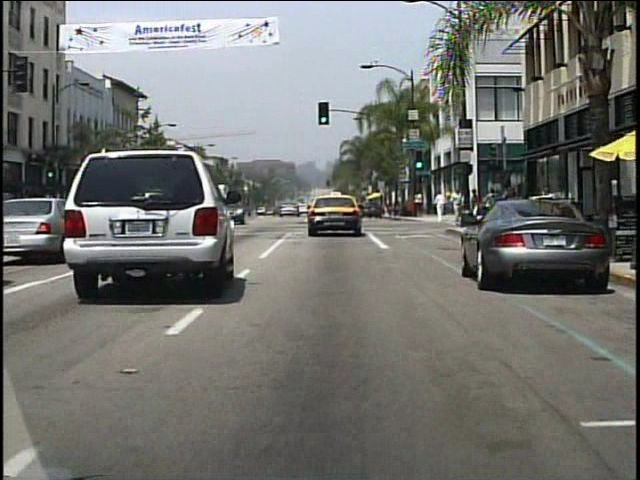person: (467, 187, 483, 226), (484, 188, 500, 226), (449, 187, 462, 226), (433, 190, 447, 222), (415, 192, 425, 217)
